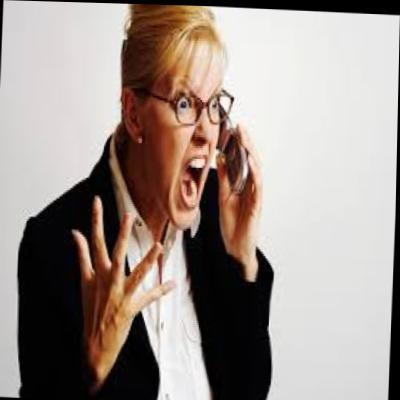angry: (130, 15, 228, 226)
